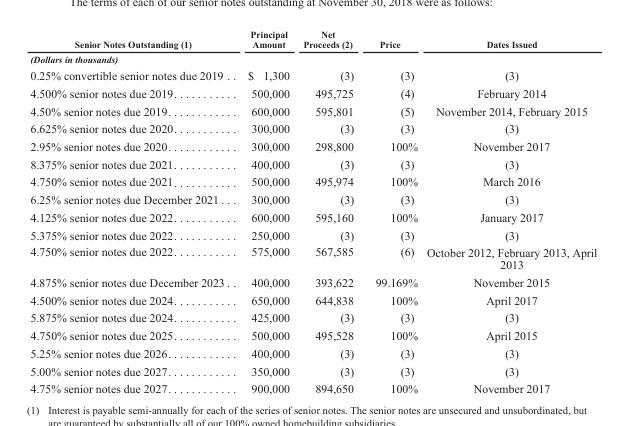table: (29, 28, 596, 394)
table column: (29, 28, 235, 394), (421, 28, 596, 394), (295, 28, 363, 394), (235, 28, 295, 394), (363, 28, 421, 394)
table column header: (29, 28, 596, 51)
table projected row header: (29, 51, 596, 66)
table row: (29, 243, 596, 273), (29, 28, 596, 51), (29, 83, 596, 101), (29, 101, 596, 119), (29, 119, 596, 137), (29, 154, 596, 172), (29, 172, 596, 190), (29, 190, 596, 208), (29, 225, 596, 243), (29, 290, 596, 308), (29, 308, 596, 326), (29, 326, 596, 344), (29, 361, 596, 379), (29, 66, 596, 83), (29, 137, 596, 154), (29, 208, 596, 225), (29, 273, 596, 290), (29, 344, 596, 361), (29, 51, 596, 66), (29, 379, 596, 394)
